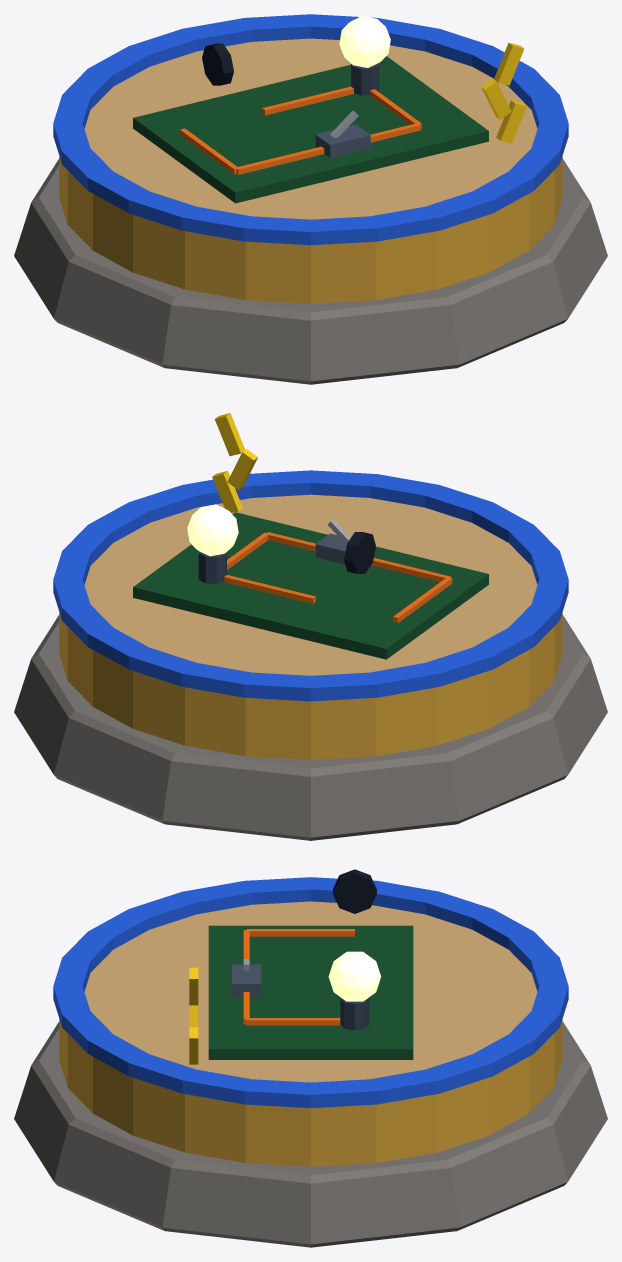
The model's file is stasiun_listrik_v001.glb.
3 renders of one model, top to bottom at view 1: azimuth 30°, elevation 25°; view 2: azimuth 150°, elevation 25°; view 3: azimuth 270°, elevation 25°, orthographic.
Parts seen in each view (by area): view 1: Stasiun_Listrik; view 2: Stasiun_Listrik; view 3: Stasiun_Listrik.
Part boxes in pixels (x1=…): Stasiun_Listrik: x1=14, y1=14, x2=607, y2=384; Stasiun_Listrik: x1=14, y1=413, x2=607, y2=840; Stasiun_Listrik: x1=14, y1=869, x2=607, y2=1247.
Bounding box in the file's own units: 2.03 × 0.849 × 2.03.
